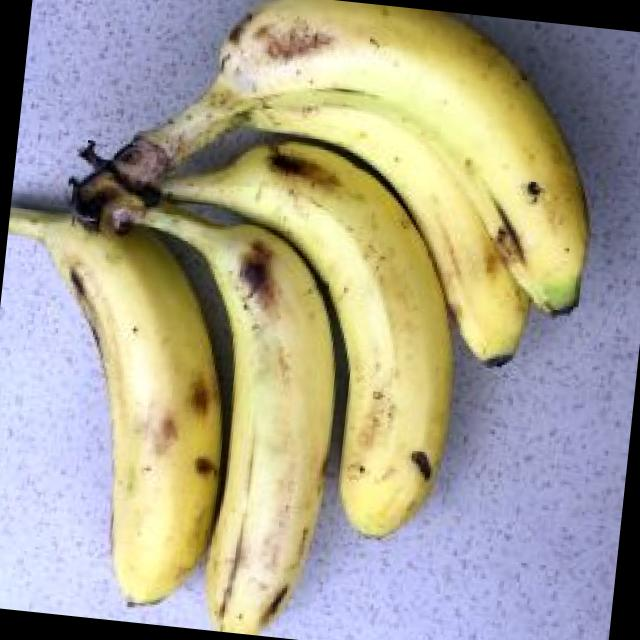banana: (146, 74, 539, 465)
